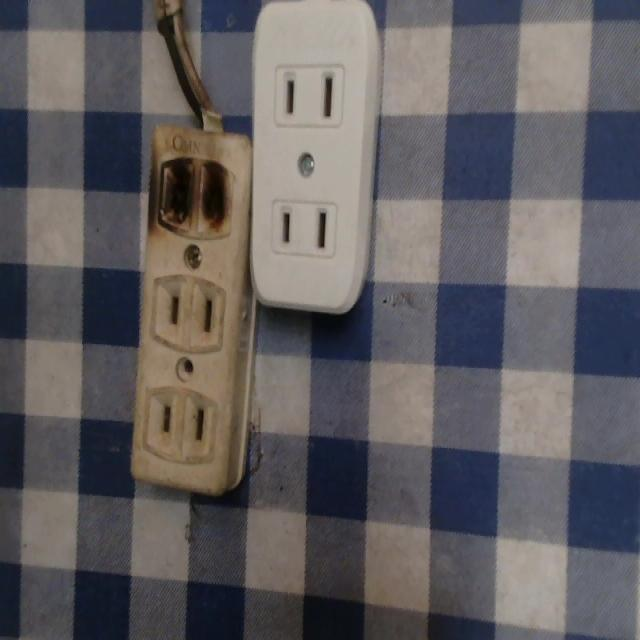-: (149, 147, 242, 233)
